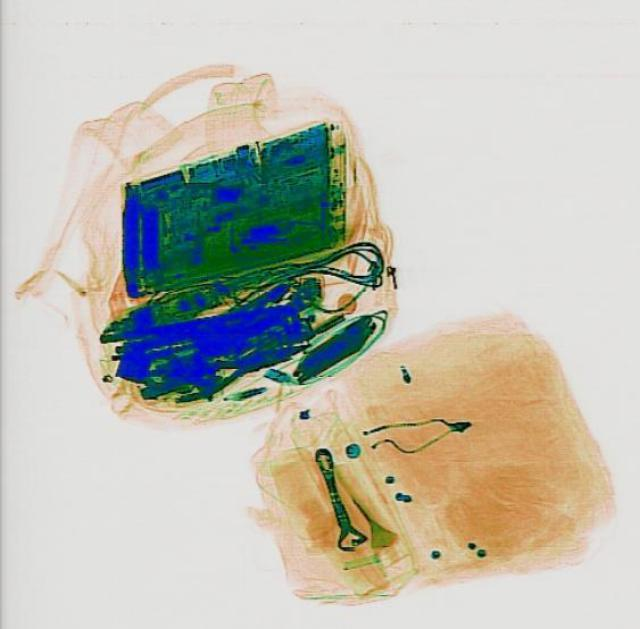Pliers: (160, 327, 316, 407)
